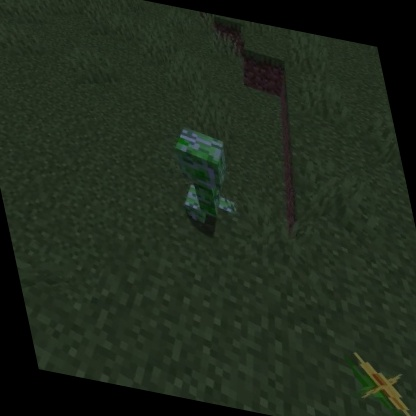creeper: (164, 120, 245, 235)
